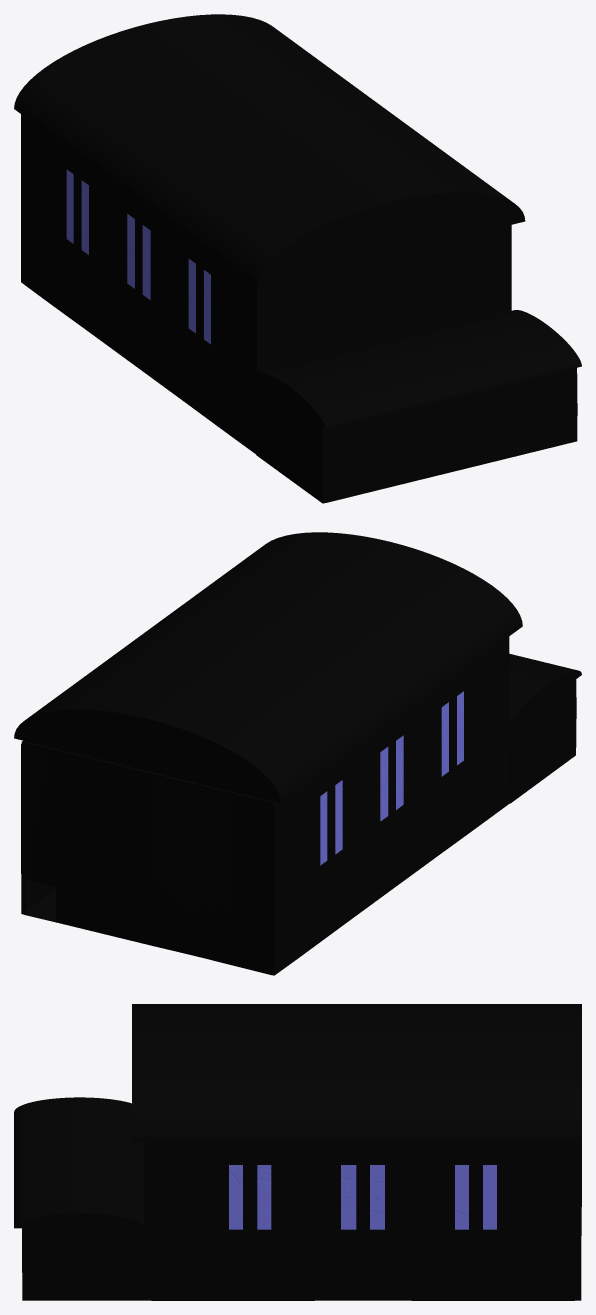
The model's file is Basketball Court.fbx.
The picture shows the model from 3 angles, top to bottom: view 1: azimuth 30°, elevation 25°; view 2: azimuth 150°, elevation 25°; view 3: azimuth 270°, elevation 25°; orthographic projection. The views are drawn at different scales.
Visible parts, largest first — view 1: MeshBaker_mesh_mesh; view 2: MeshBaker_mesh_mesh; view 3: MeshBaker_mesh_mesh.
Boxes of the visible parts, bbox=[...] form: MeshBaker_mesh_mesh: bbox=[14, 14, 581, 503]; MeshBaker_mesh_mesh: bbox=[14, 532, 581, 975]; MeshBaker_mesh_mesh: bbox=[14, 1004, 581, 1300].
Bounding box in the file's own units: 2960 × 2401 × 5867.
